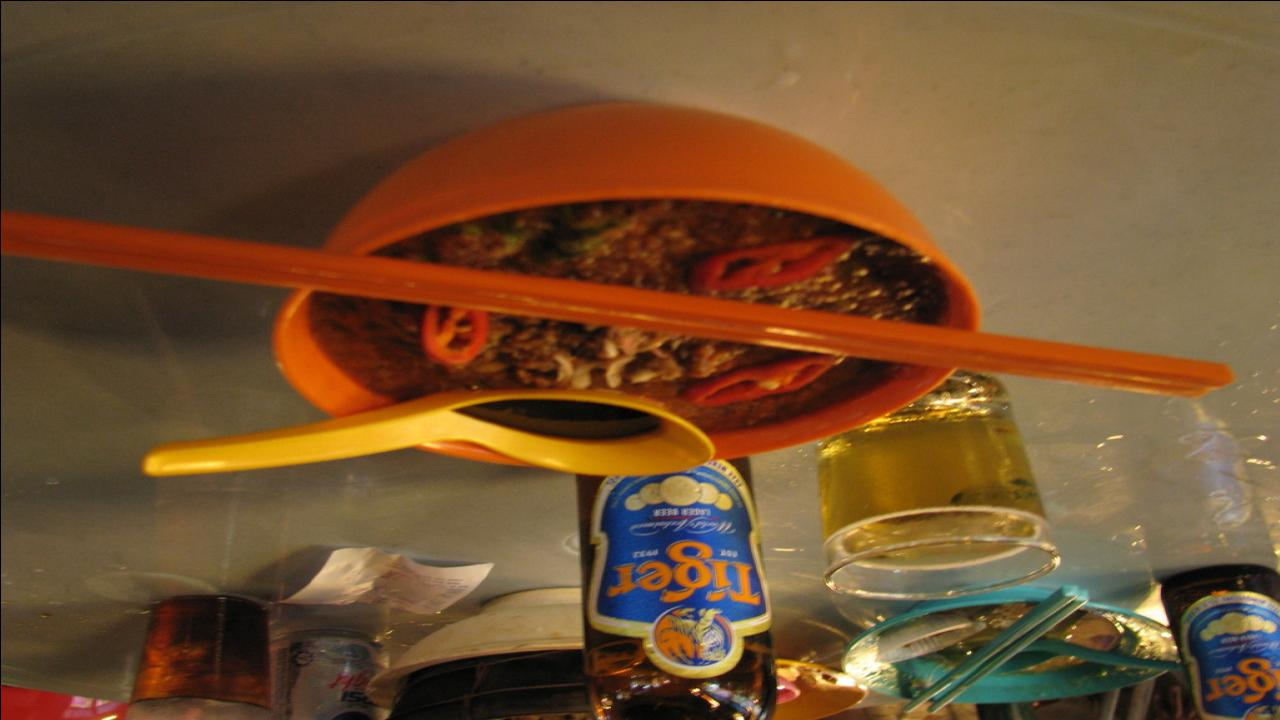chopstick: (0, 209, 1227, 398), (907, 590, 1080, 714)
